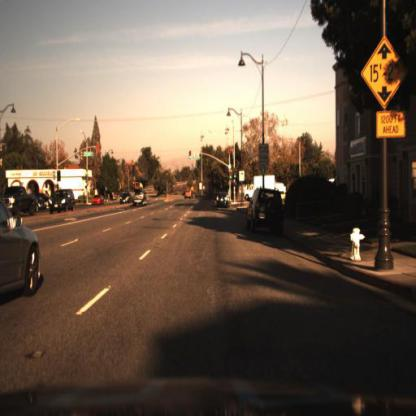car: (1, 195, 44, 303), (247, 183, 286, 236), (130, 186, 149, 209), (131, 186, 148, 210), (89, 190, 106, 211), (216, 193, 230, 211), (217, 191, 231, 209), (91, 193, 106, 209), (119, 191, 133, 207)
trafficLight-Green: (188, 147, 195, 163), (187, 148, 194, 162), (229, 172, 234, 187), (234, 173, 239, 185)
trafficLight-Red: (163, 168, 170, 181), (131, 179, 138, 189)
truck: (245, 174, 285, 199)
